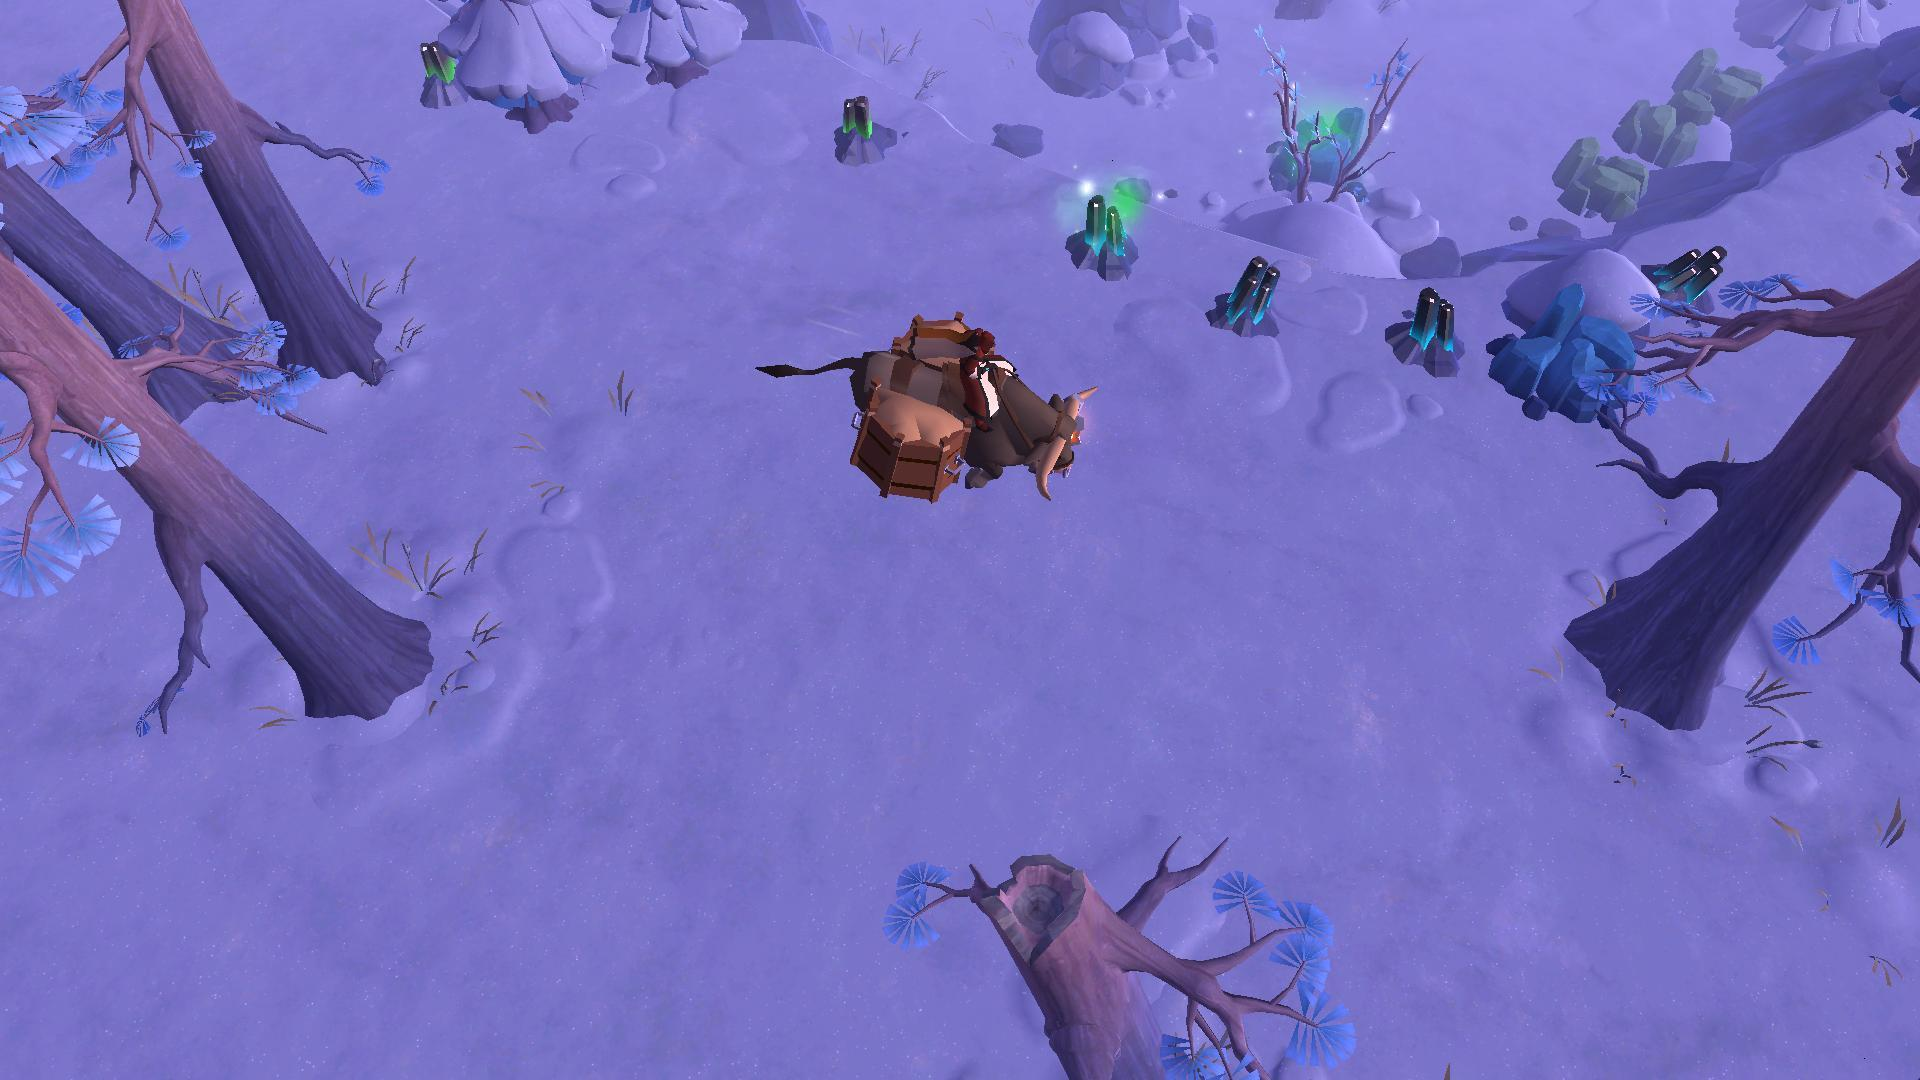ore_t3: (832, 92, 874, 149), (417, 34, 458, 84)
ore_t4: (1651, 244, 1726, 302), (1222, 253, 1278, 328), (1403, 281, 1457, 357), (1080, 190, 1129, 262)
rock_t3: (1545, 128, 1647, 222), (1672, 36, 1767, 117), (1621, 88, 1706, 167)
rock_t4: (1495, 278, 1631, 426), (1262, 104, 1366, 196)
